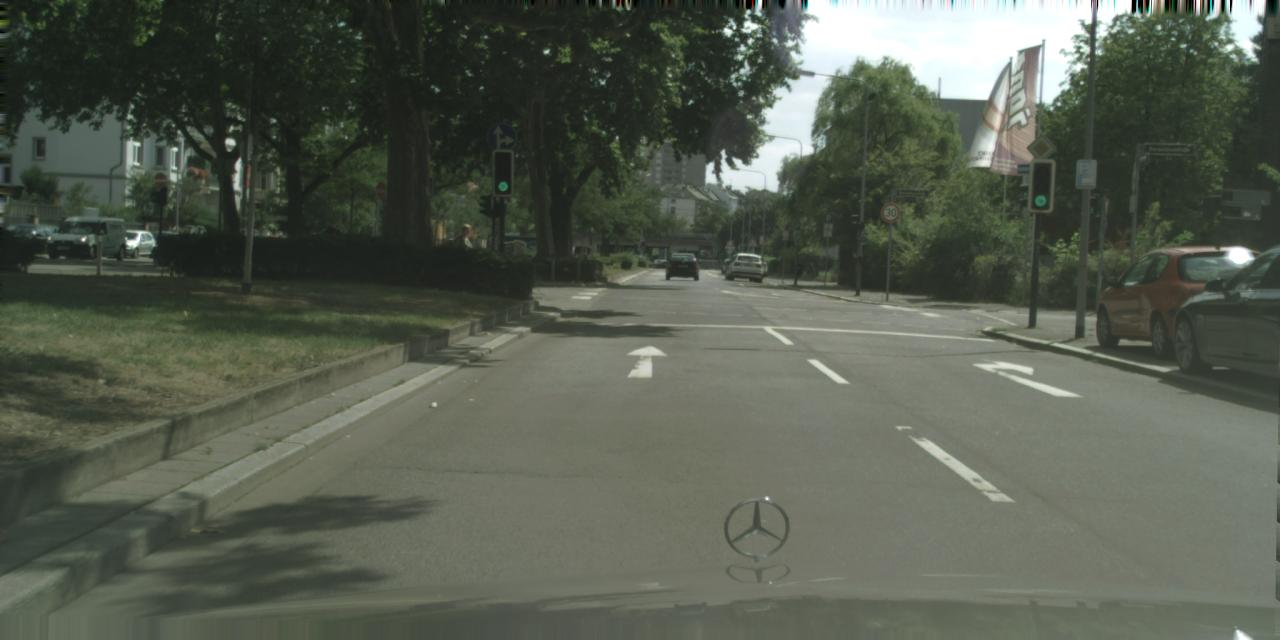ped: (449, 223, 476, 289), (322, 221, 342, 271)
